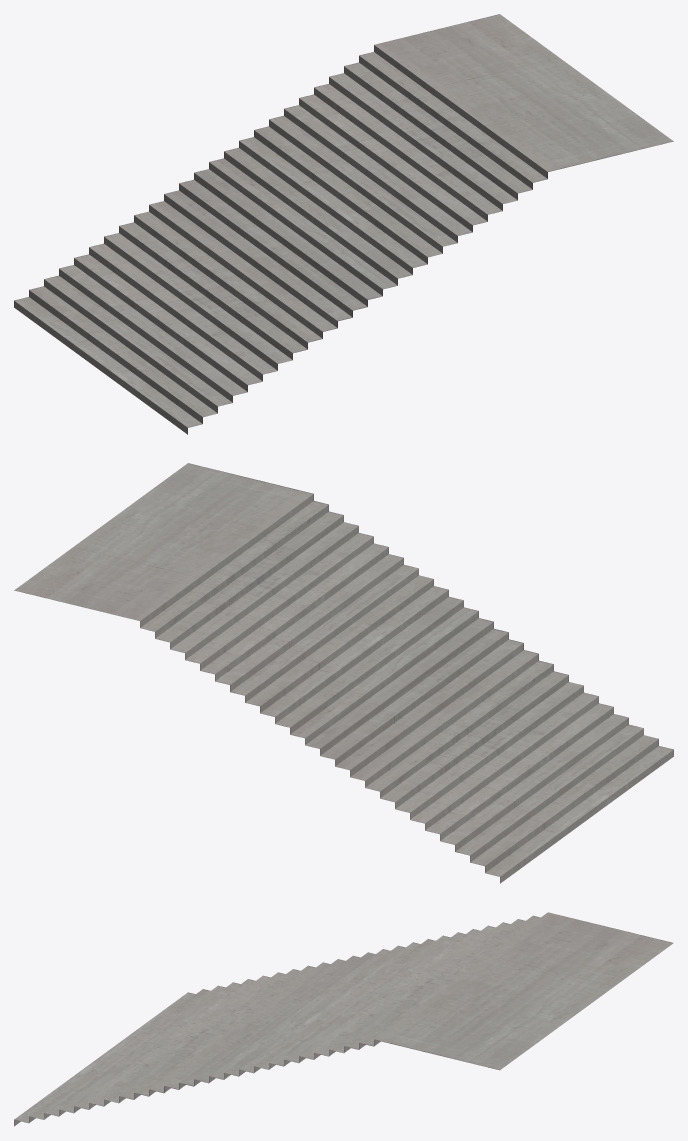
Rendered from ESTADIO_gradasFondo.fbx.
The picture shows the model from 3 angles, top to bottom: view 1: azimuth 30°, elevation 25°; view 2: azimuth 150°, elevation 25°; view 3: azimuth 330°, elevation 25°; orthographic projection.
Visible parts, largest first — view 1: ESTADIO_gradasFondo; view 2: ESTADIO_gradasFondo; view 3: ESTADIO_gradasFondo.
Boxes of the visible parts, x1,y1,x2,y2 form: ESTADIO_gradasFondo: (14,14,673,434); ESTADIO_gradasFondo: (14,463,673,883); ESTADIO_gradasFondo: (14,912,673,1126).
Bounding box in the file's own units: 2617 × 900 × 1624.
